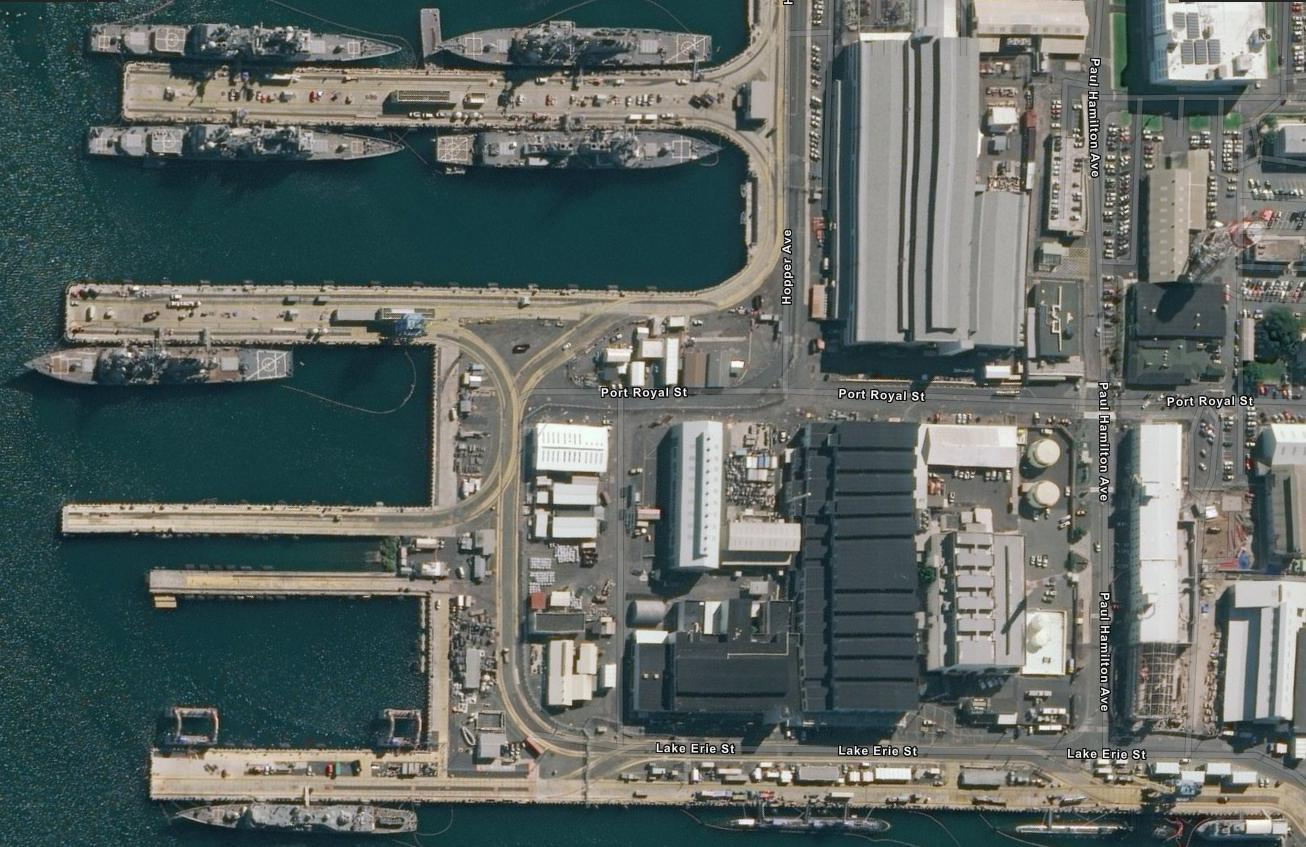destroyer: (78, 6, 408, 75), (86, 122, 412, 177)
fregate: (429, 113, 730, 178), (430, 13, 720, 75), (20, 342, 301, 389)
submarine: (1000, 811, 1197, 845), (720, 811, 916, 837)
